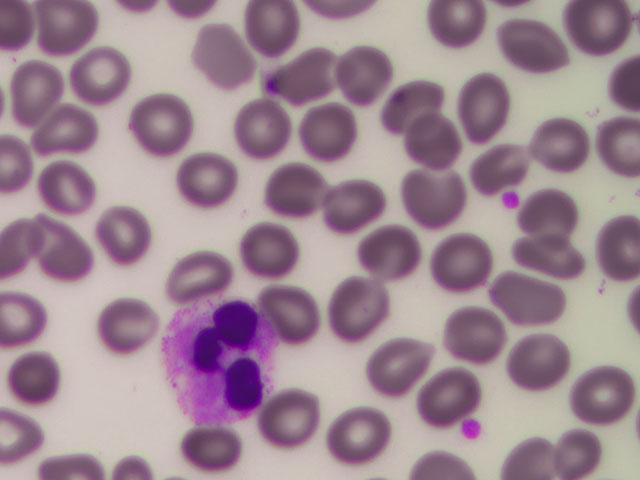Platelets: (496, 186, 524, 214), (462, 418, 482, 438)
RBC: (179, 419, 242, 480), (79, 44, 142, 104), (34, 98, 97, 158), (7, 57, 70, 117), (30, 157, 93, 217), (35, 216, 98, 276), (89, 211, 152, 271), (132, 94, 195, 154), (177, 150, 240, 210), (219, 90, 282, 150), (283, 43, 346, 103), (197, 30, 260, 90), (335, 47, 398, 107), (299, 113, 362, 173), (270, 163, 333, 223), (318, 176, 381, 236), (254, 220, 317, 280), (171, 242, 234, 302), (96, 292, 159, 352), (12, 343, 75, 403), (269, 382, 332, 442), (313, 400, 376, 460), (266, 286, 329, 346), (329, 277, 392, 337), (361, 220, 424, 280), (426, 225, 489, 285), (431, 312, 494, 372), (489, 264, 552, 324), (518, 227, 581, 287), (528, 181, 591, 241), (535, 118, 598, 178), (464, 135, 527, 195), (412, 169, 475, 229), (403, 121, 466, 181), (381, 79, 444, 139), (466, 73, 529, 133), (508, 21, 571, 81), (431, 3, 494, 63), (577, 208, 640, 268), (577, 360, 640, 420), (505, 332, 568, 392), (550, 418, 613, 478), (418, 355, 481, 415), (376, 333, 439, 393), (34, 1, 97, 60), (244, 1, 307, 60), (563, 1, 626, 60)
WBC: (168, 301, 279, 418)
